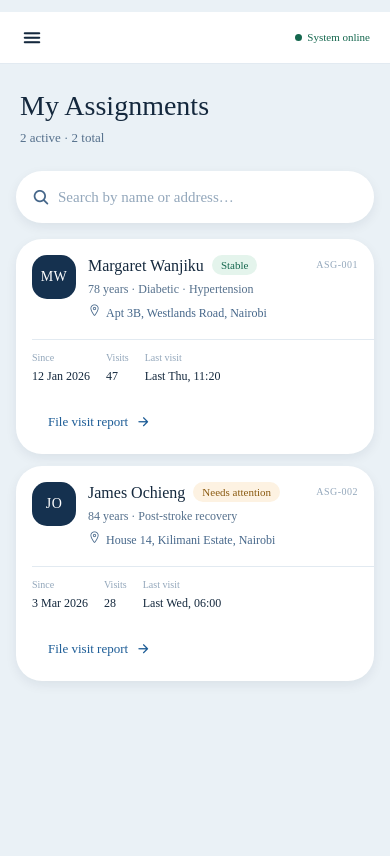
Scenario: search › clears back to the full list
Expected: the text "Margaret Wanjiku" is shown, [88, 255, 204, 277]
Type "zzzz" into the field named "Search your assignments by name or address" at (214, 197), box [58, 174, 370, 220]
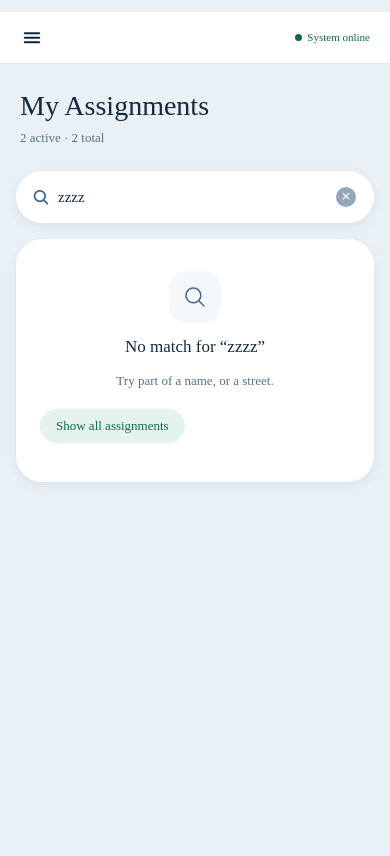
Click the button labelled "Show all assignments" at (112, 426), box [40, 409, 185, 443]
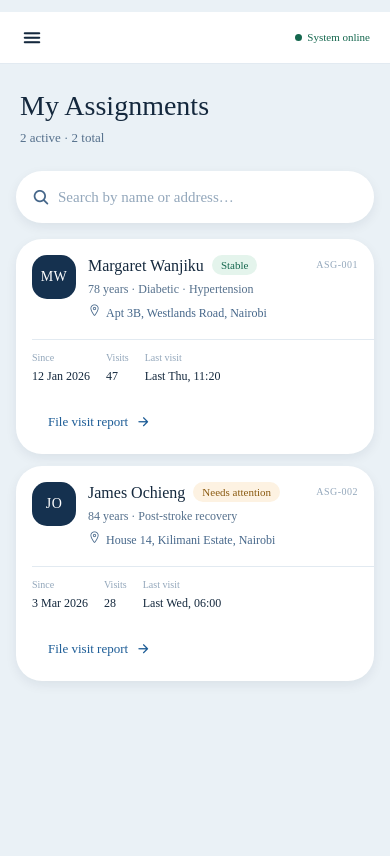
Now the text "Margaret Wanjiku" is shown, box [88, 255, 204, 277]
Now the text "James Ochieng" is shown, box [88, 482, 185, 504]
